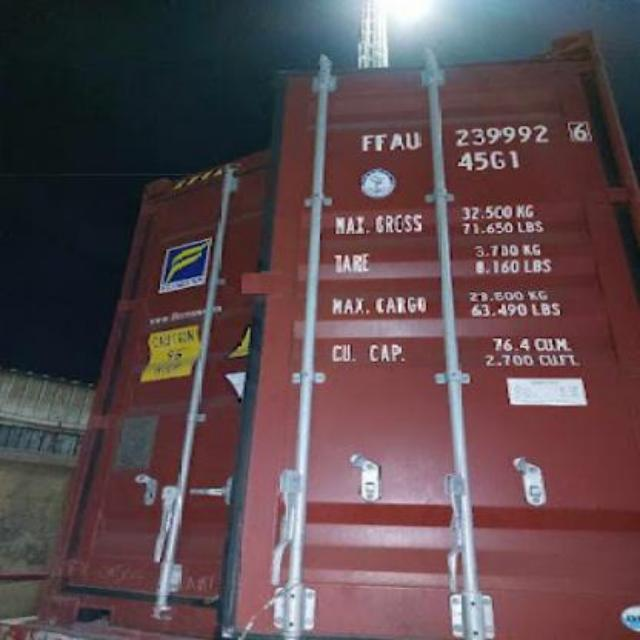2: (450, 120, 470, 148), (532, 118, 550, 148)
3: (471, 120, 484, 150)
6: (566, 117, 590, 143)
9: (516, 116, 530, 148), (500, 120, 516, 146), (484, 122, 500, 144)
A: (388, 128, 404, 154)
F: (361, 126, 374, 158), (374, 128, 386, 156)
U: (404, 126, 422, 156)
